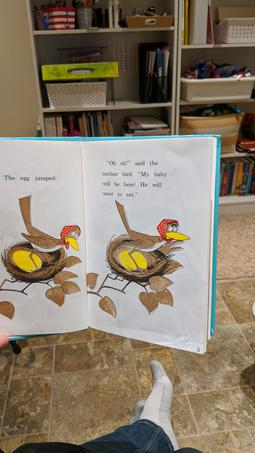text block: (98, 149, 174, 202), (1, 166, 58, 190)
